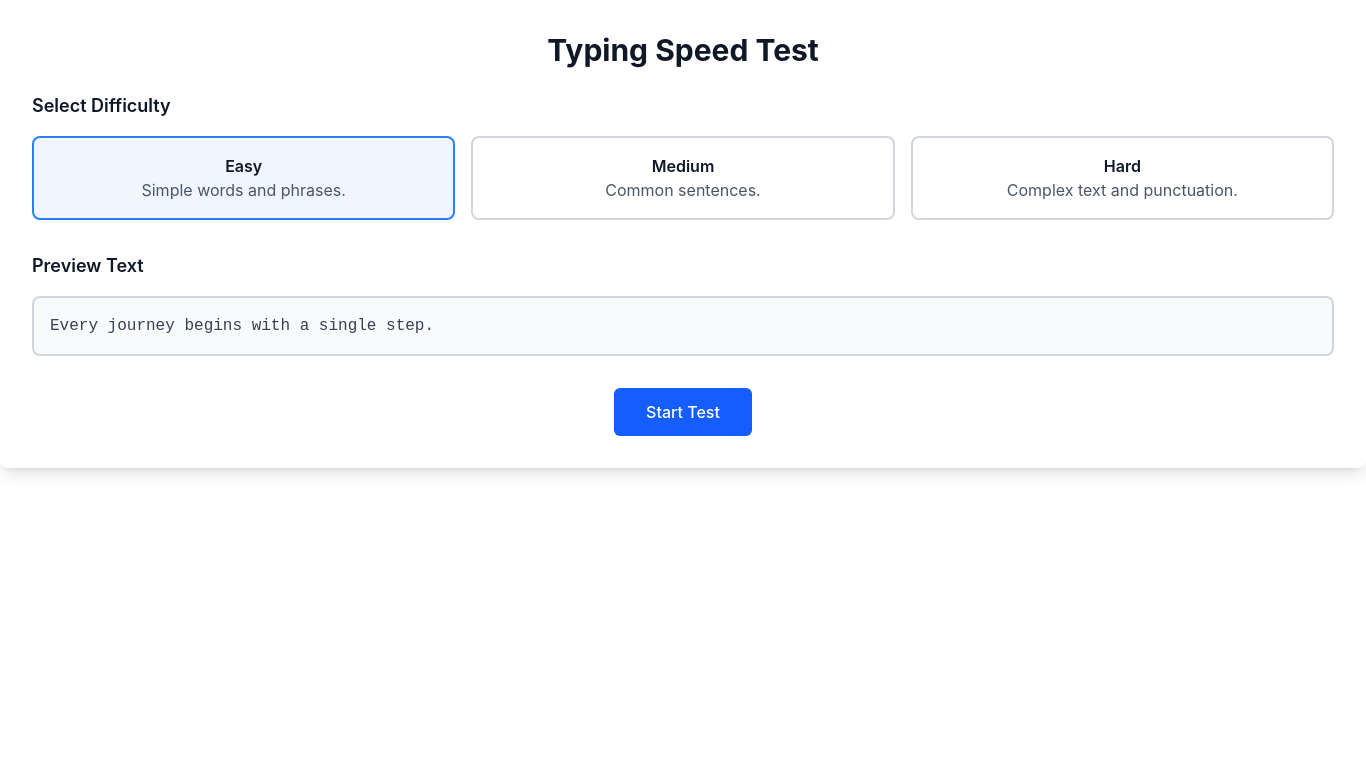
TypingTestApp › displays result screen when test is completed
Note: Start the test
What coordinates should you click on to do the following:
click the button "Start Test"
I would click on:
 (683, 412)
Its box is [614, 388, 752, 436].
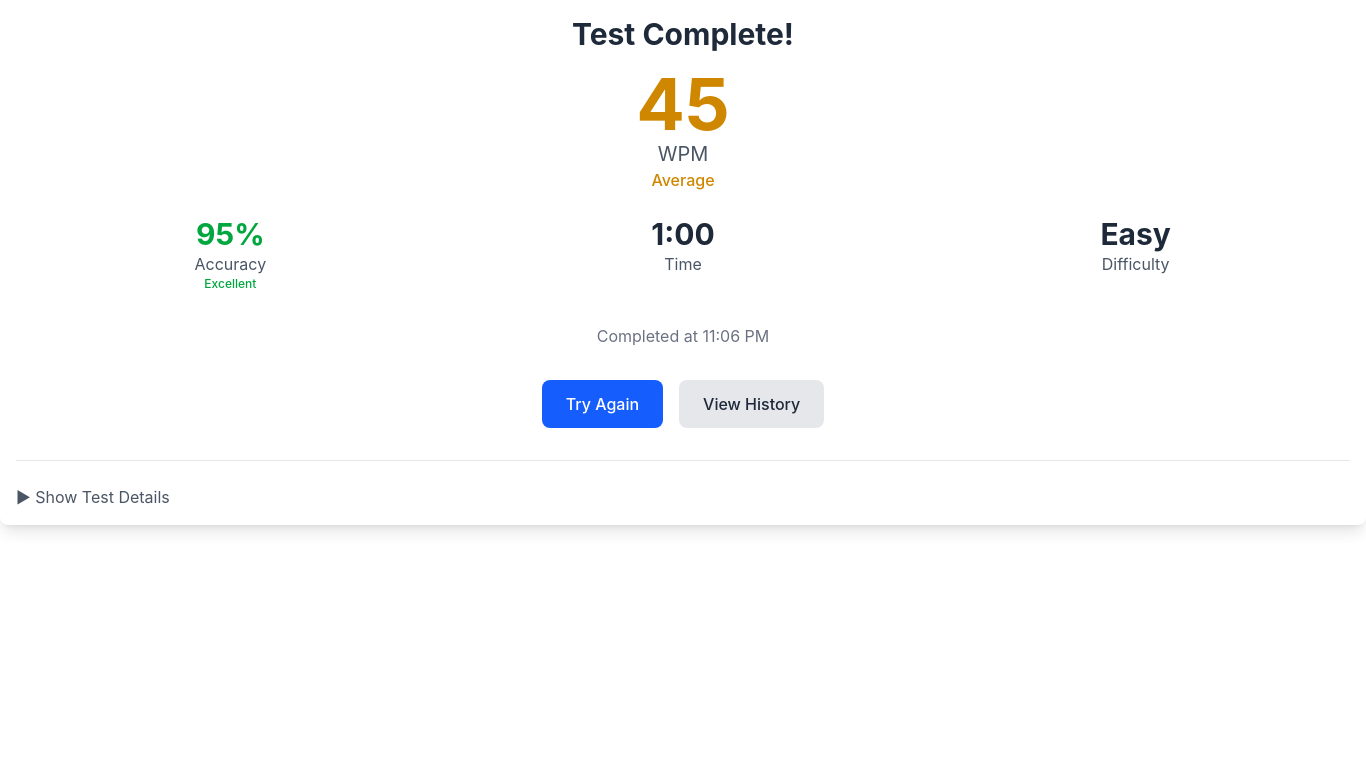
Result: the heading "Test Complete!" is shown at [572, 16, 794, 52]
Result: the text "45" is shown at [636, 60, 730, 147]
Result: the text "95%" is shown at [196, 216, 265, 252]
